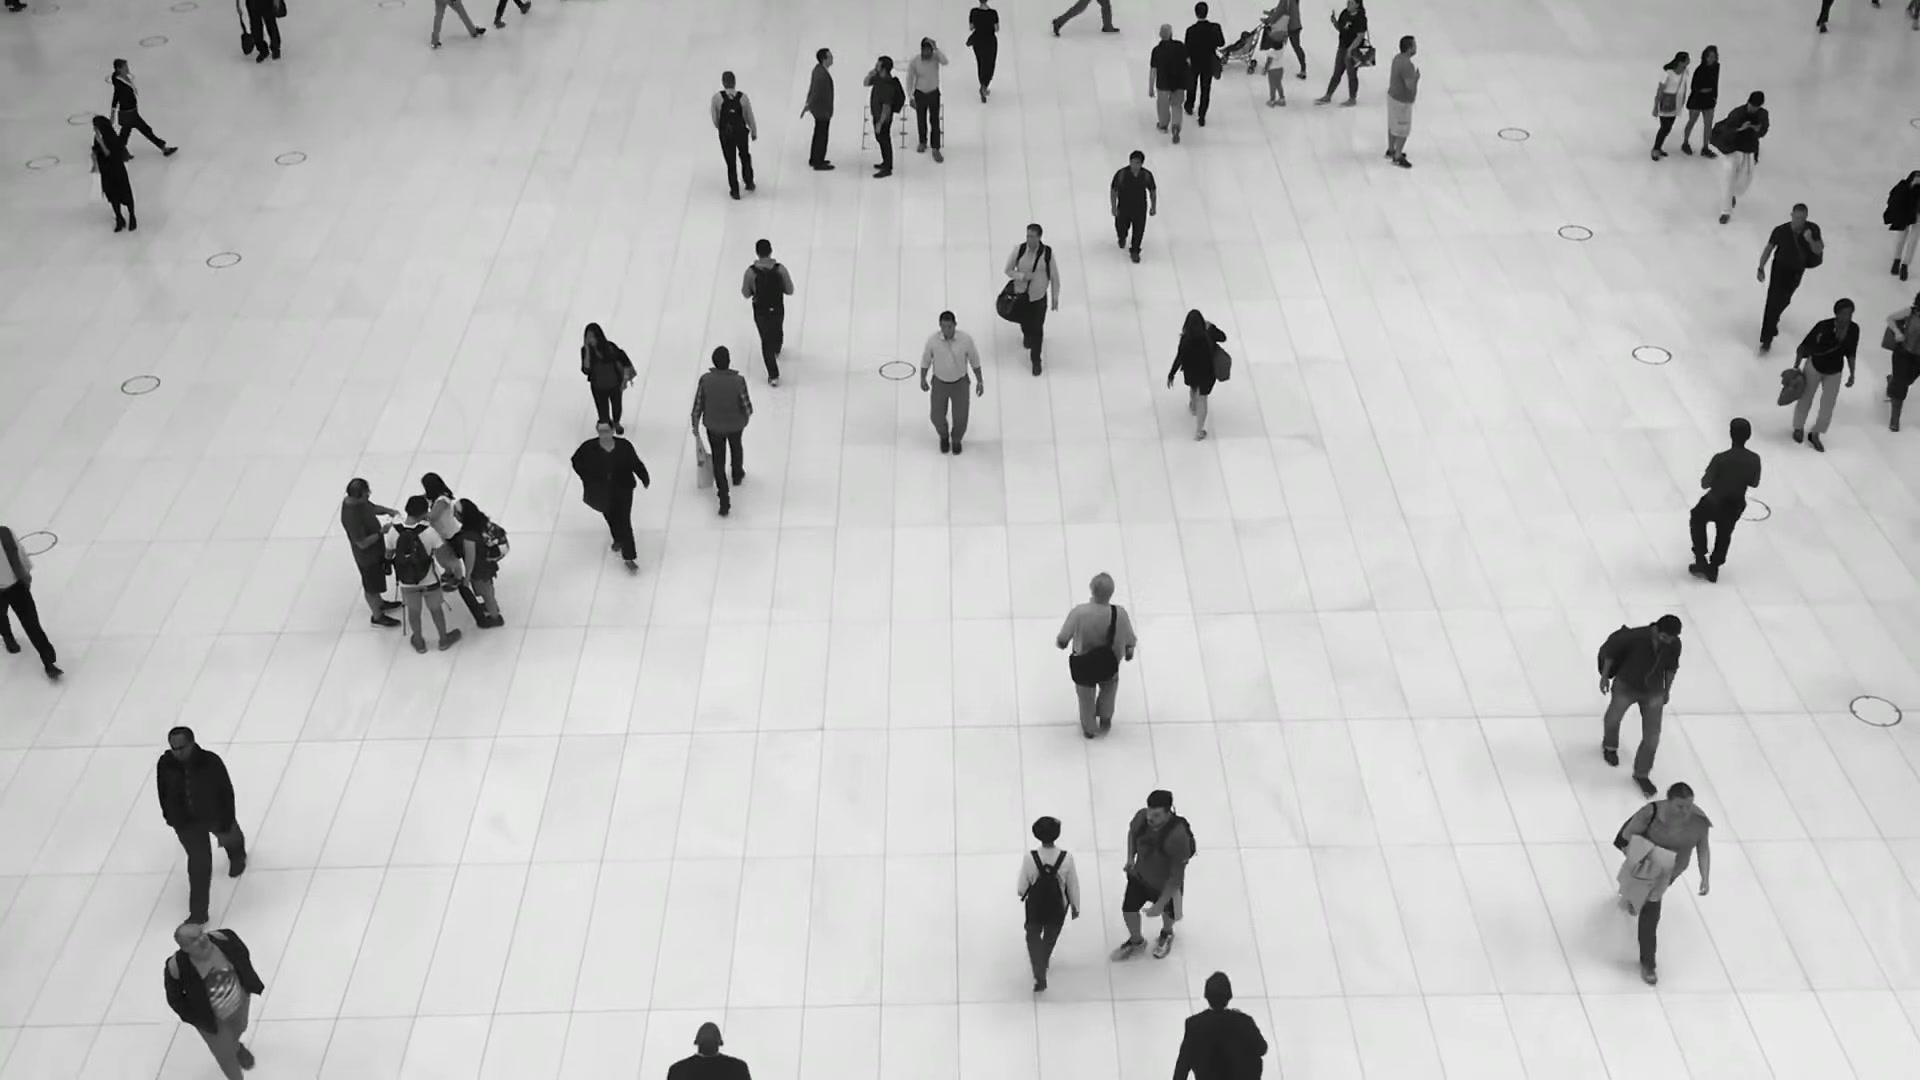person: (1616, 778, 1710, 965), (154, 724, 246, 910), (161, 918, 263, 1079), (1594, 615, 1684, 791), (1111, 792, 1194, 980), (1057, 575, 1137, 760), (1680, 419, 1759, 598), (1014, 819, 1084, 1008), (385, 495, 461, 653), (1784, 301, 1860, 461), (572, 418, 650, 568), (1751, 204, 1822, 353), (692, 343, 753, 506), (918, 314, 981, 466), (340, 478, 402, 630), (1003, 220, 1058, 370), (1710, 92, 1769, 230), (742, 237, 795, 380), (703, 74, 757, 207), (1170, 306, 1225, 430), (452, 498, 504, 629), (1105, 152, 1156, 270), (578, 319, 633, 429), (1318, 0, 1368, 110), (91, 115, 137, 233), (1181, 2, 1224, 126), (907, 38, 949, 162), (1643, 52, 1689, 164), (1147, 24, 1191, 142), (1383, 34, 1421, 169), (862, 56, 903, 180), (1678, 46, 1721, 161), (420, 472, 460, 593), (799, 48, 836, 172), (109, 55, 157, 147), (1260, 0, 1307, 78), (968, 0, 1000, 107), (1261, 37, 1285, 107)
